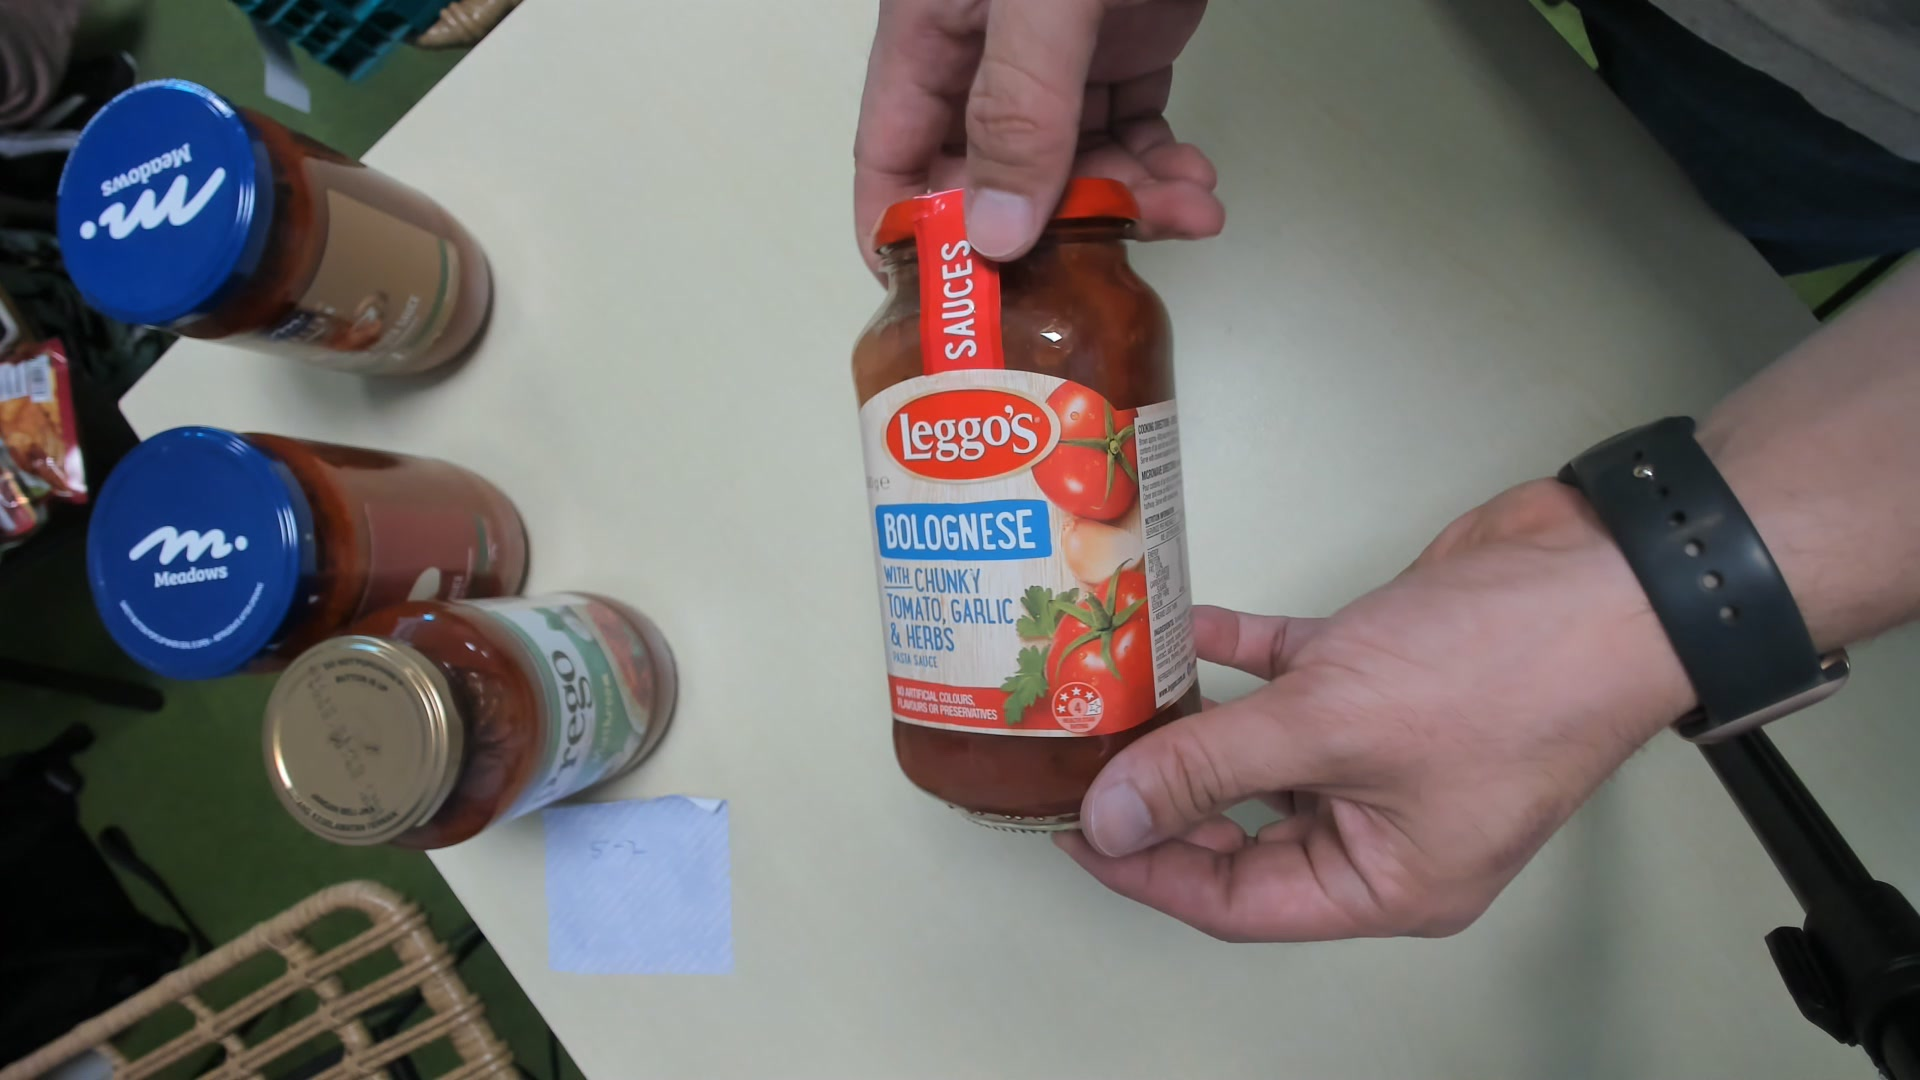PastaSauce_500-599g_Halal_NonHealthy: (855, 179, 1205, 828)
